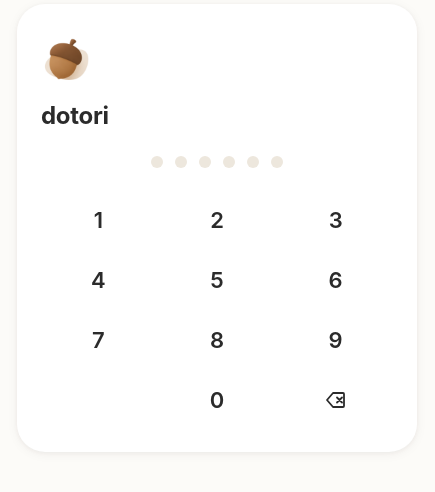
Test case: LockGate — 재진입 (PIN 잠금) › 틀린 PIN을 입력하면 에러가 나타나고 입력이 초기화된다
This screenshot has width=435, height=492.
What coordinates should you click on to do the following:
click the button "1"
I would click on:
 (98, 220)
Its box is x1=41 y1=192 x2=156 y2=248.
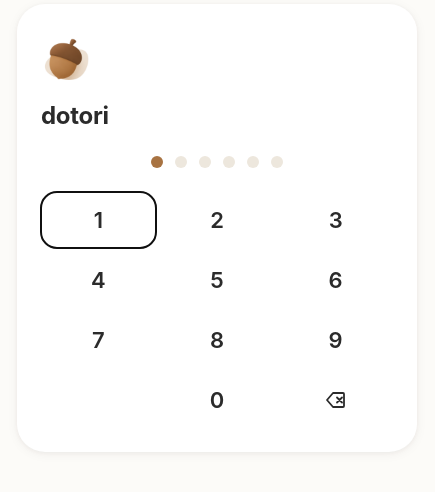
What coordinates should you click on to do the following:
click the button "1"
I would click on:
 (98, 220)
Its box is x1=41 y1=192 x2=156 y2=248.
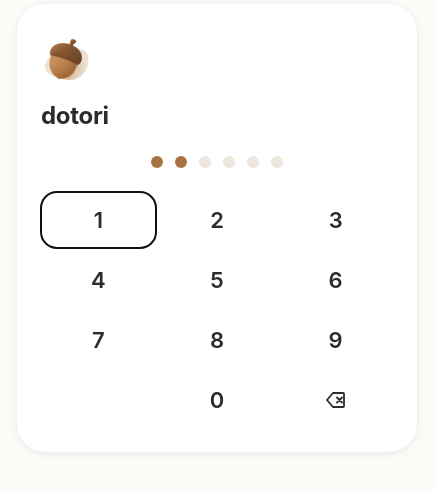
What coordinates should you click on to do the following:
click the button "1"
I would click on:
 (98, 220)
Its box is x1=41 y1=192 x2=156 y2=248.
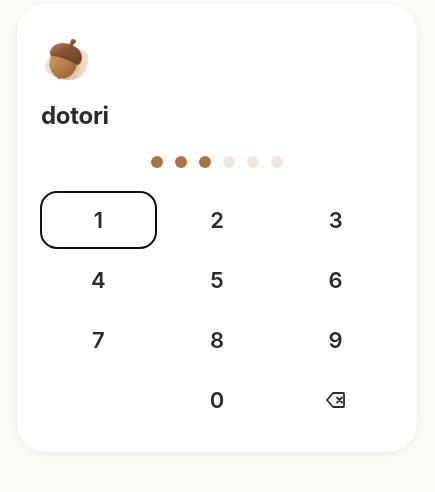
What coordinates should you click on to do the following:
click the button "1"
I would click on:
 (98, 220)
Its box is x1=41 y1=192 x2=156 y2=248.
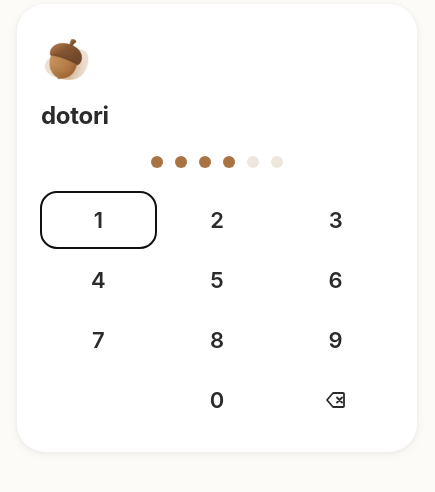
What coordinates should you click on to do the following:
click the button "1"
I would click on:
 (98, 220)
Its box is x1=41 y1=192 x2=156 y2=248.
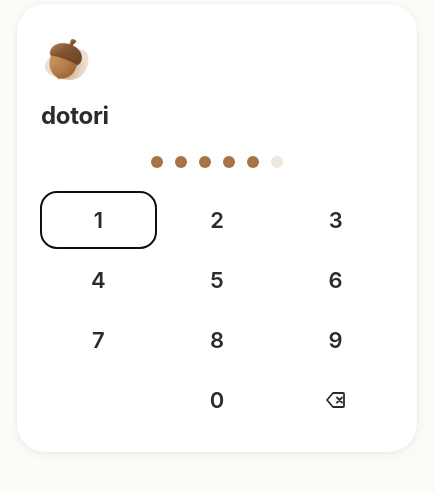
What coordinates should you click on to do the following:
click the button "1"
I would click on:
 (98, 220)
Its box is x1=41 y1=192 x2=156 y2=248.
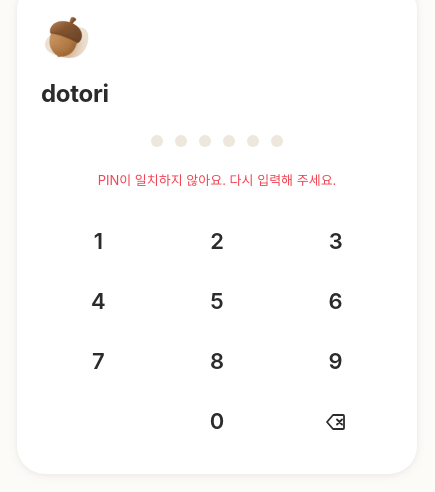
Expected: the message "PIN이 일치하지 않아요. 다시 입력해 주세요." is shown, x1=98 y1=172 x2=336 y2=188
Expected: the message named "6자리 중 0자리 입력" is shown, x1=151 y1=135 x2=283 y2=147
